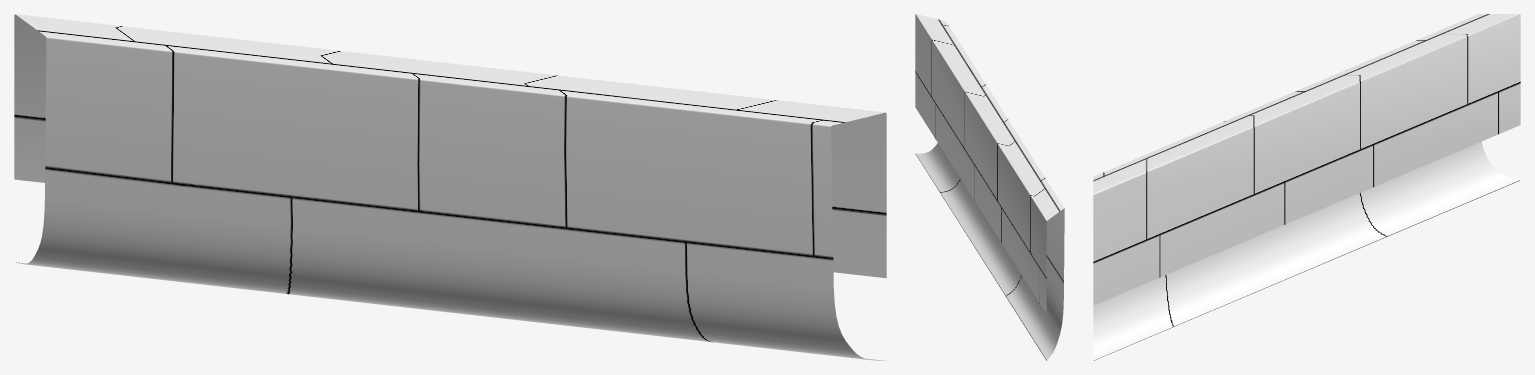
The model's file is Parapet01_45Deg_350cm.FBX.
3 renders of one model, left to right at view 1: azimuth 30°, elevation 25°; view 2: azimuth 150°, elevation 25°; view 3: azimuth 270°, elevation 25°, orthographic. The views are drawn at different scales.
Parts seen in each view (by area): view 1: Parapet01_45Deg_350cm; view 2: Parapet01_45Deg_350cm; view 3: Parapet01_45Deg_350cm.
Boxes of the visible parts, <box> form: Parapet01_45Deg_350cm: <box>14,14,886,360</box>; Parapet01_45Deg_350cm: <box>915,14,1064,360</box>; Parapet01_45Deg_350cm: <box>1093,14,1520,360</box>.
Size of the model in its own units: 350 by 150 by 350.
